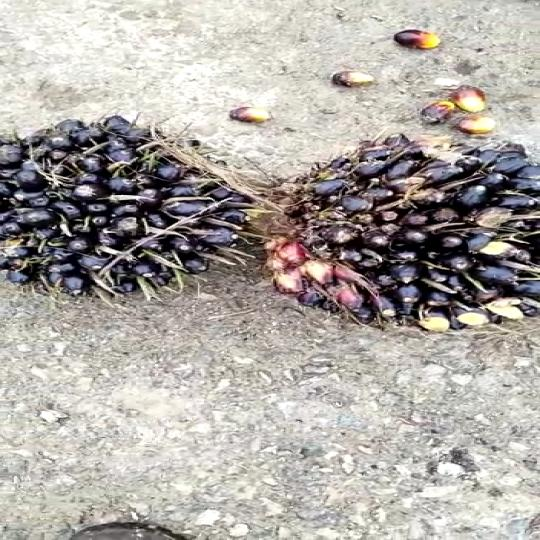mentah: (258, 131, 540, 365), (7, 102, 291, 302)
